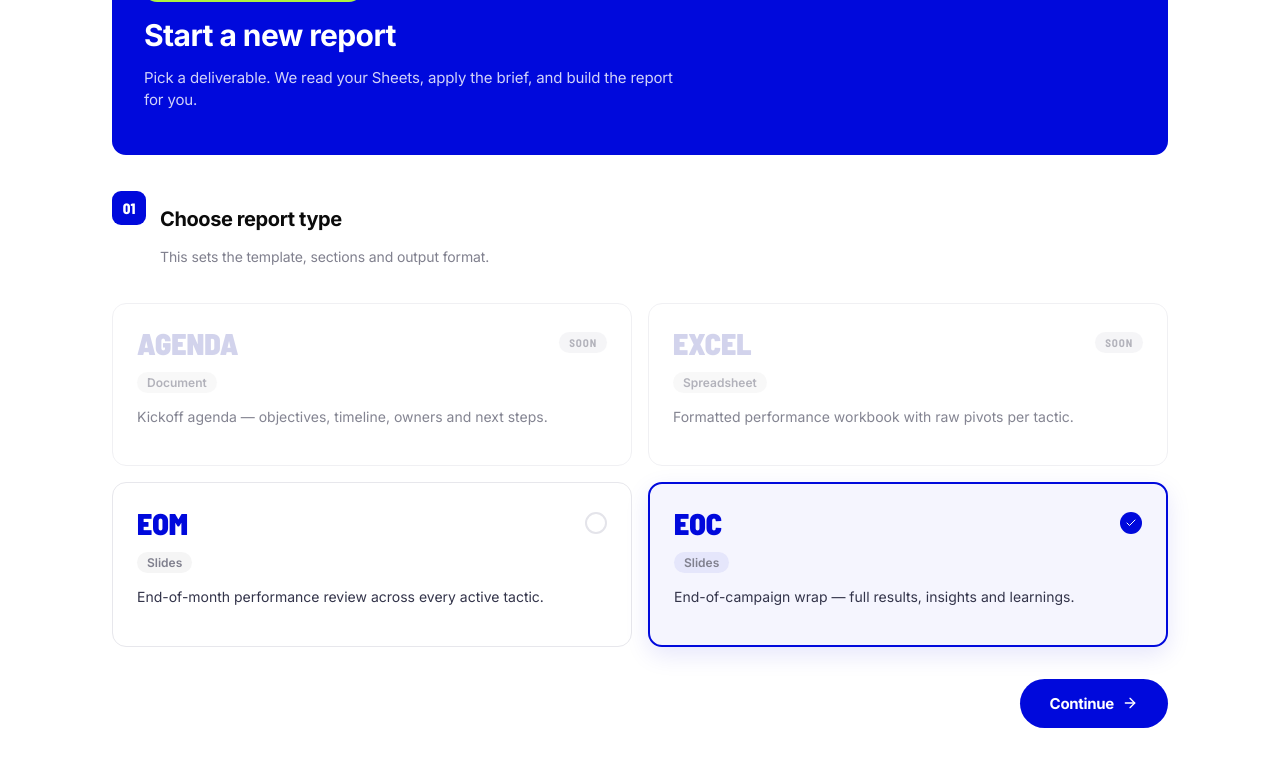
Test: ReportConstructorPage — adopting a filled sheet › should offer the adopt card before any of the normal inputs test
(page scrolled)
Click the button "Continue". click: (1094, 703)
box: [1020,679,1168,728]
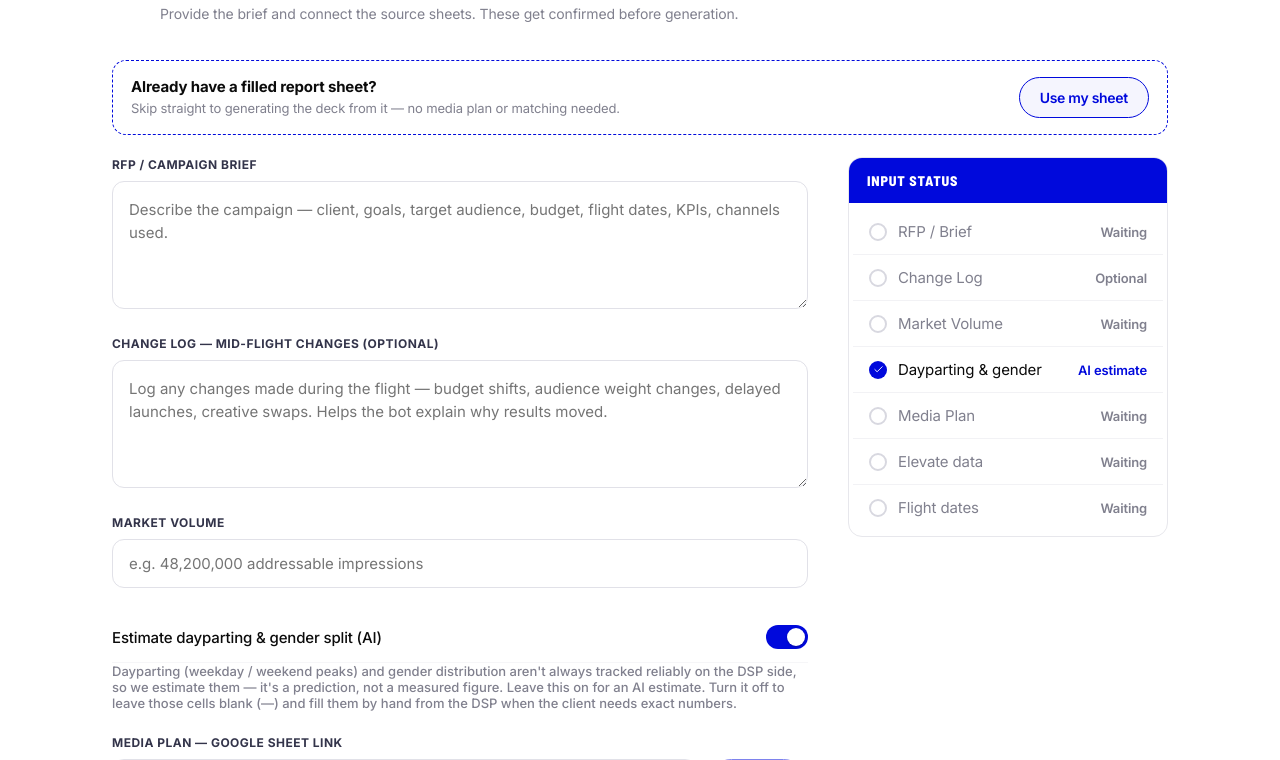
Expected: the text "Already have a filled report sheet?" is shown, [131,77,376,96]
